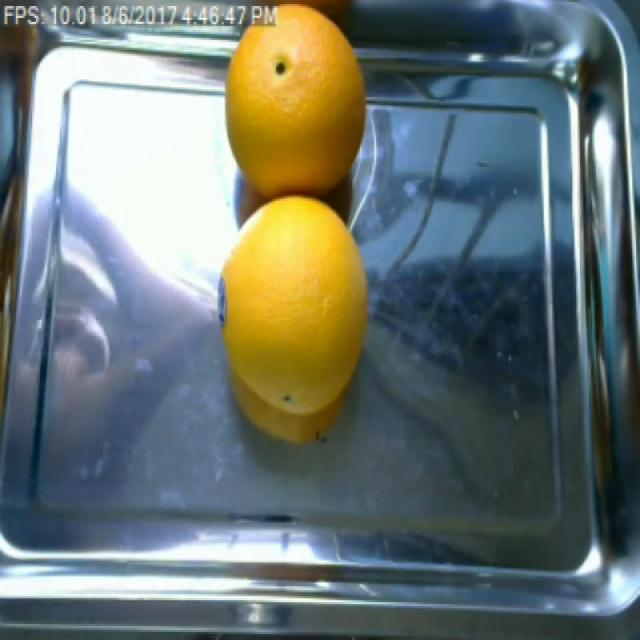Fruit: (204, 177, 397, 383), (208, 272, 365, 457)
